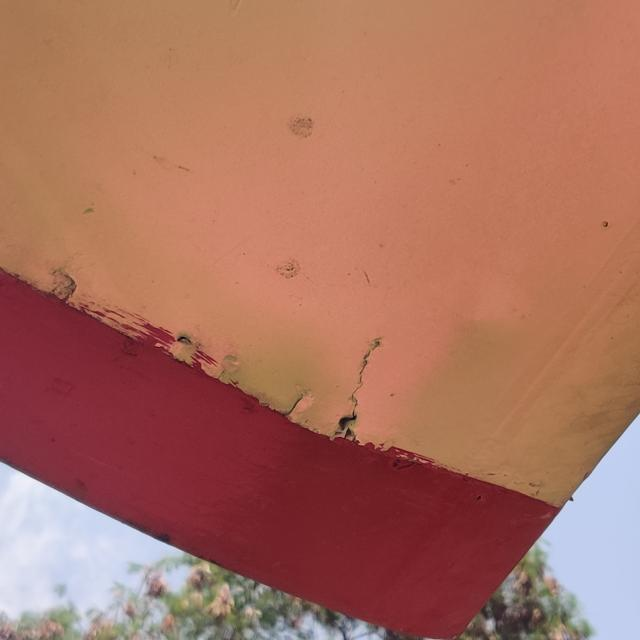crack: (328, 329, 391, 448), (275, 382, 314, 424)
